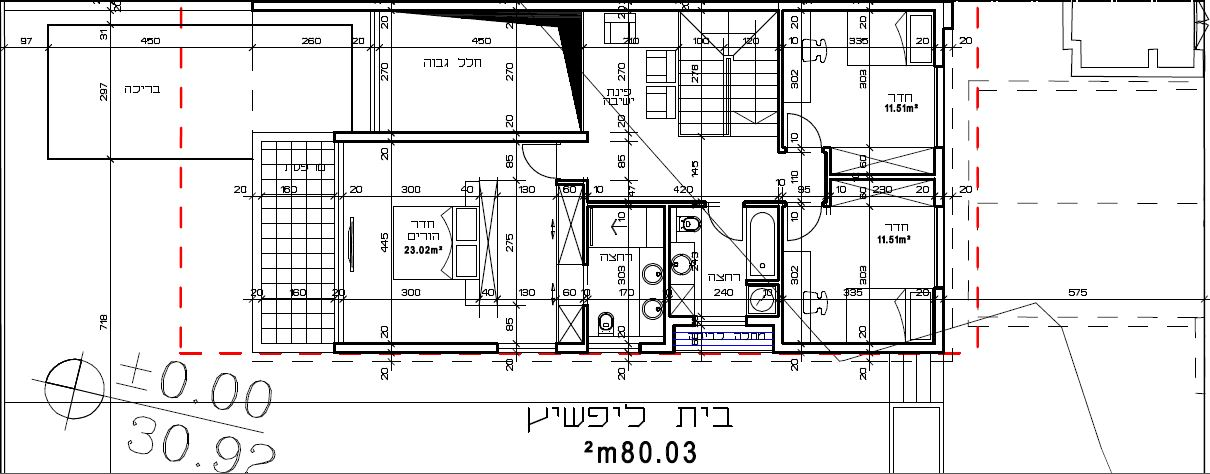door: (785, 109, 831, 145), (706, 212, 745, 247), (785, 210, 823, 245), (521, 142, 555, 180)
